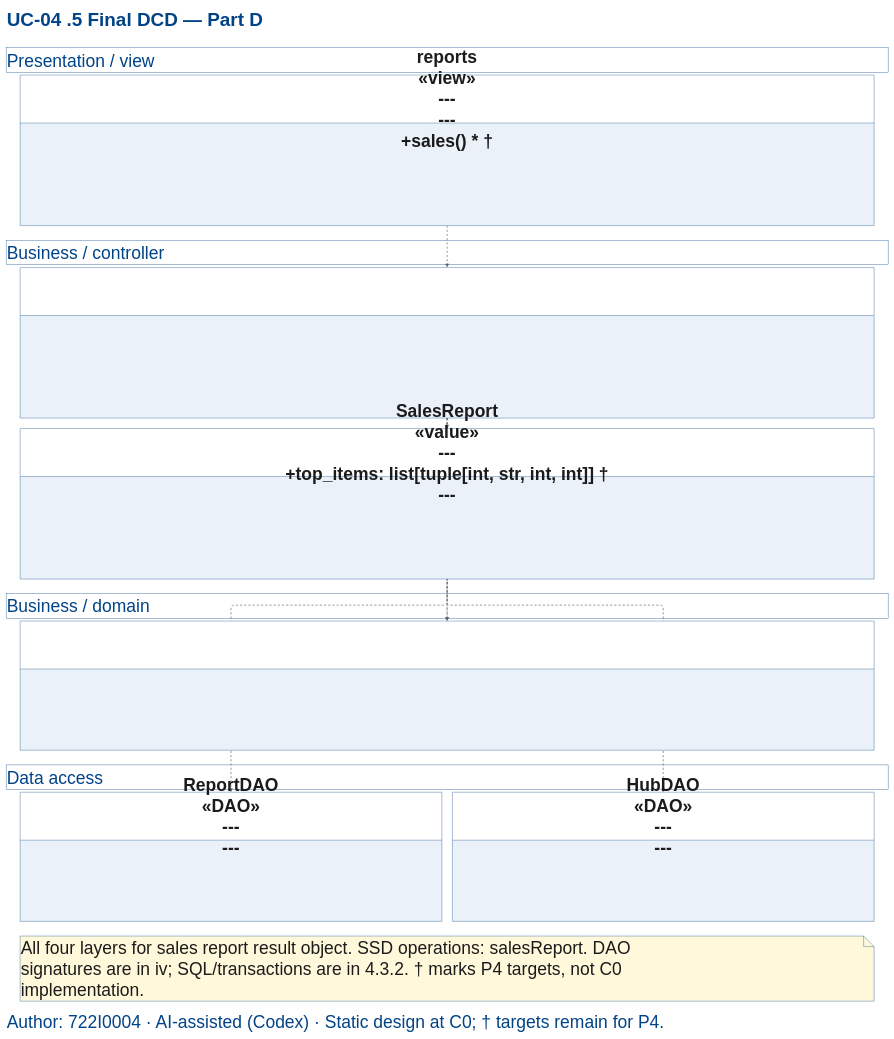
This 894x1039 diagram has some shape labels left out. Each missing label, with the centre of its shape:
"Hub «entity» --- ---" goes at point 447,685.
"ReportController «controller» --- --- +sales_report() -> SalesReport †" goes at point 447,342.
